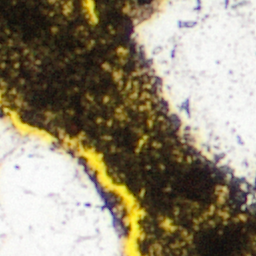cement_matrix: (0, 0, 255, 255), (103, 191, 125, 230), (164, 221, 171, 228)
cracks: (0, 108, 144, 255), (102, 190, 126, 231), (84, 0, 93, 17), (0, 93, 3, 105)
gravel_crushed_stones: (133, 0, 255, 203), (0, 121, 123, 255), (165, 222, 170, 227)
